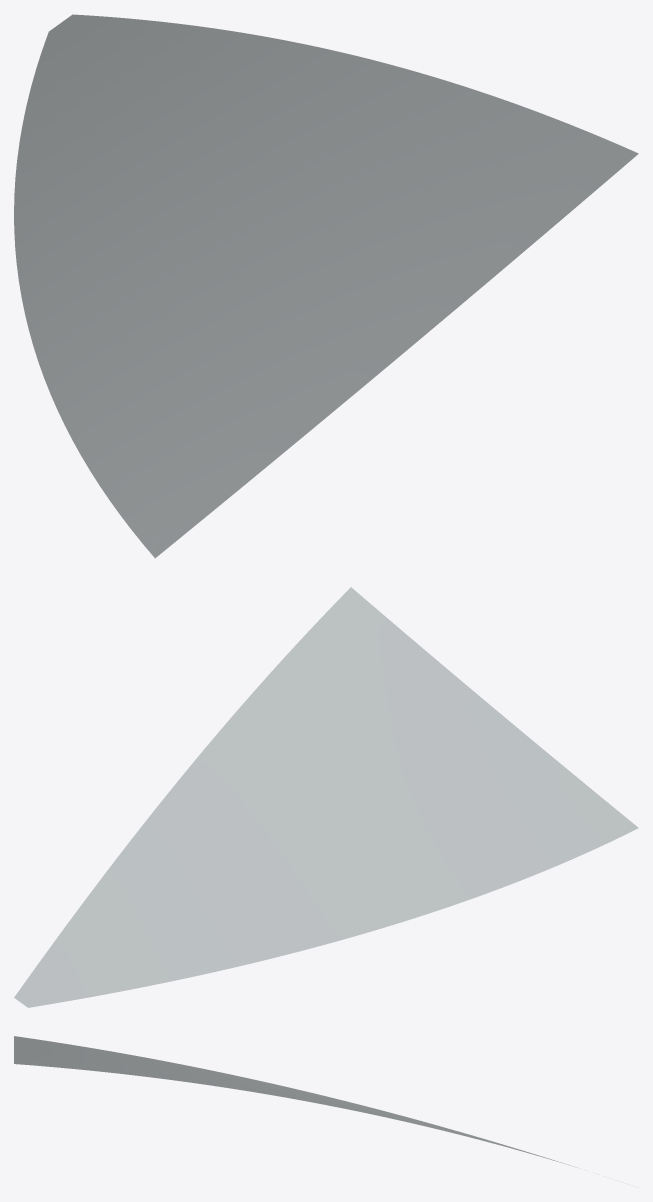
Rendered from alpine-5-5.glb.
3 views of the same model, one above another, from view 1: azimuth 30°, elevation 25°; view 2: azimuth 150°, elevation 25°; view 3: azimuth 270°, elevation 25° (orthographic). The views are drawn at different scales.
Parts seen in each view (by area): view 1: alpine-5-5; view 2: alpine-5-5; view 3: alpine-5-5.
Boxes of the visible parts, x1,y1,x2,y2 form: alpine-5-5: [14, 14, 638, 558]; alpine-5-5: [14, 587, 638, 1007]; alpine-5-5: [14, 1036, 577, 1167].
Bounding box in the file's own units: 126 × 71.53 × 256.
1 material, 1 textured.
